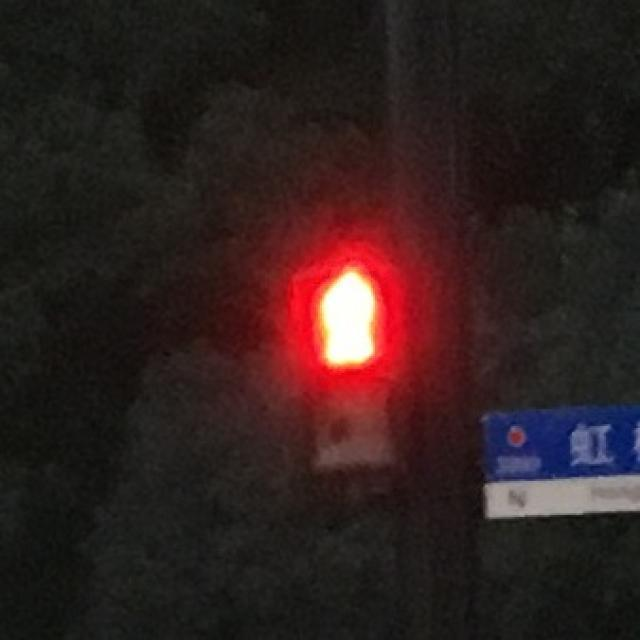red-crossing: (296, 252, 398, 377)
